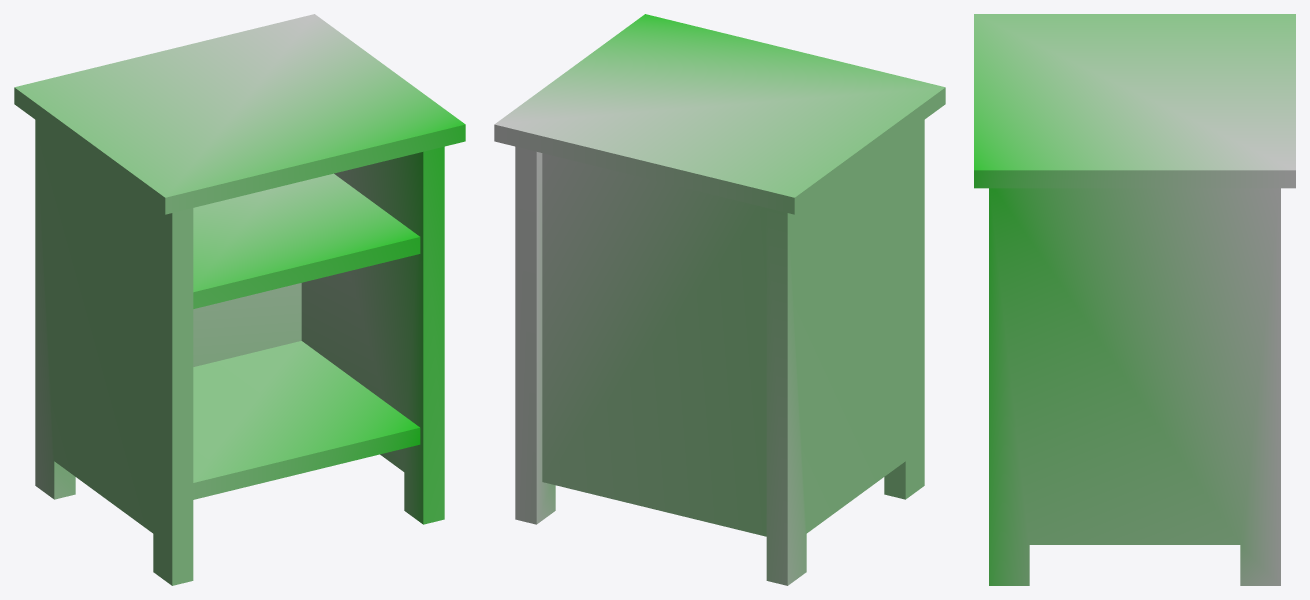
Rendered from Table_8.fbx.
3 views of the same model, side by side, from view 1: azimuth 30°, elevation 25°; view 2: azimuth 150°, elevation 25°; view 3: azimuth 270°, elevation 25° (orthographic). The views are drawn at different scales.
Visible parts, largest first — view 1: Table_8; view 2: Table_8; view 3: Table_8.
Part boxes in pixels (box(x1,y1,x2,y2)): Table_8: box(14, 14, 465, 585); Table_8: box(494, 14, 945, 585); Table_8: box(974, 14, 1295, 585).
Size of the model in its own units: 0.7517 by 0.9487 by 0.6542.
